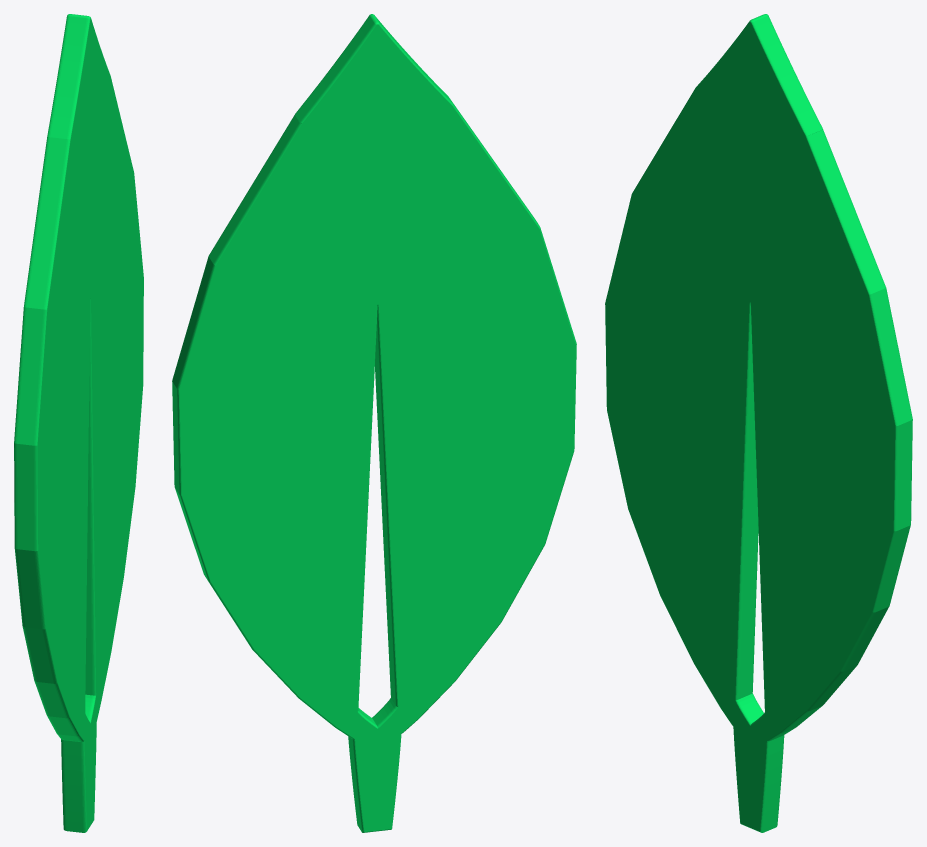
File: mongodb.glb
The picture shows the model from 3 angles, left to right: view 1: azimuth 30°, elevation 25°; view 2: azimuth 150°, elevation 25°; view 3: azimuth 270°, elevation 25°; orthographic projection.
Size of the model in its own units: 34.51 by 100 by 34.51.
